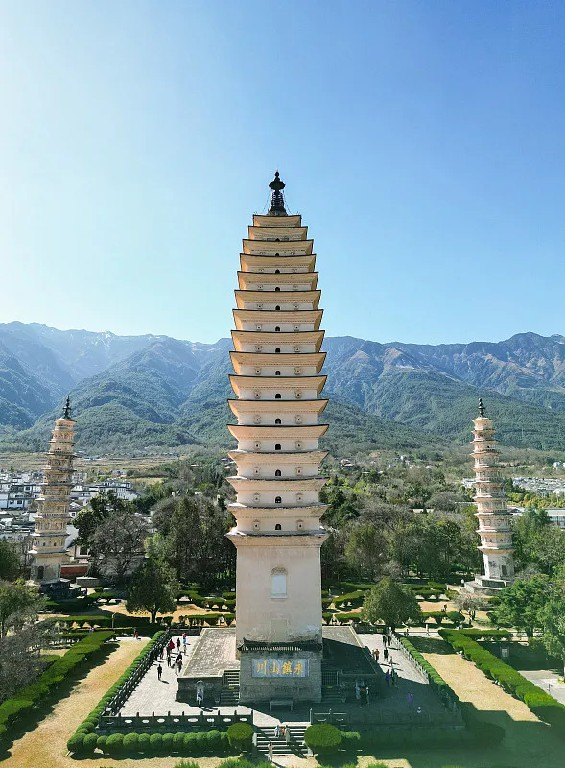ThreePagoda: (223, 171, 330, 656)
